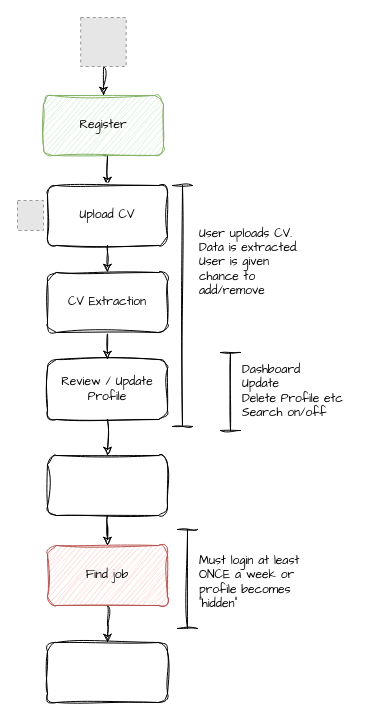
The diagram is 371 pixels wide and 720 high, and some of its shapes have lost their labels. Grey dashed boxes stand in for pictures. The shapes that lost their labels are listed below. From the top down, each one's box as (x1, y1, x2, y2) in pixels, then its label:
(46, 454, 168, 516): Make profile searchable
(46, 642, 168, 702): Make profile hidden
